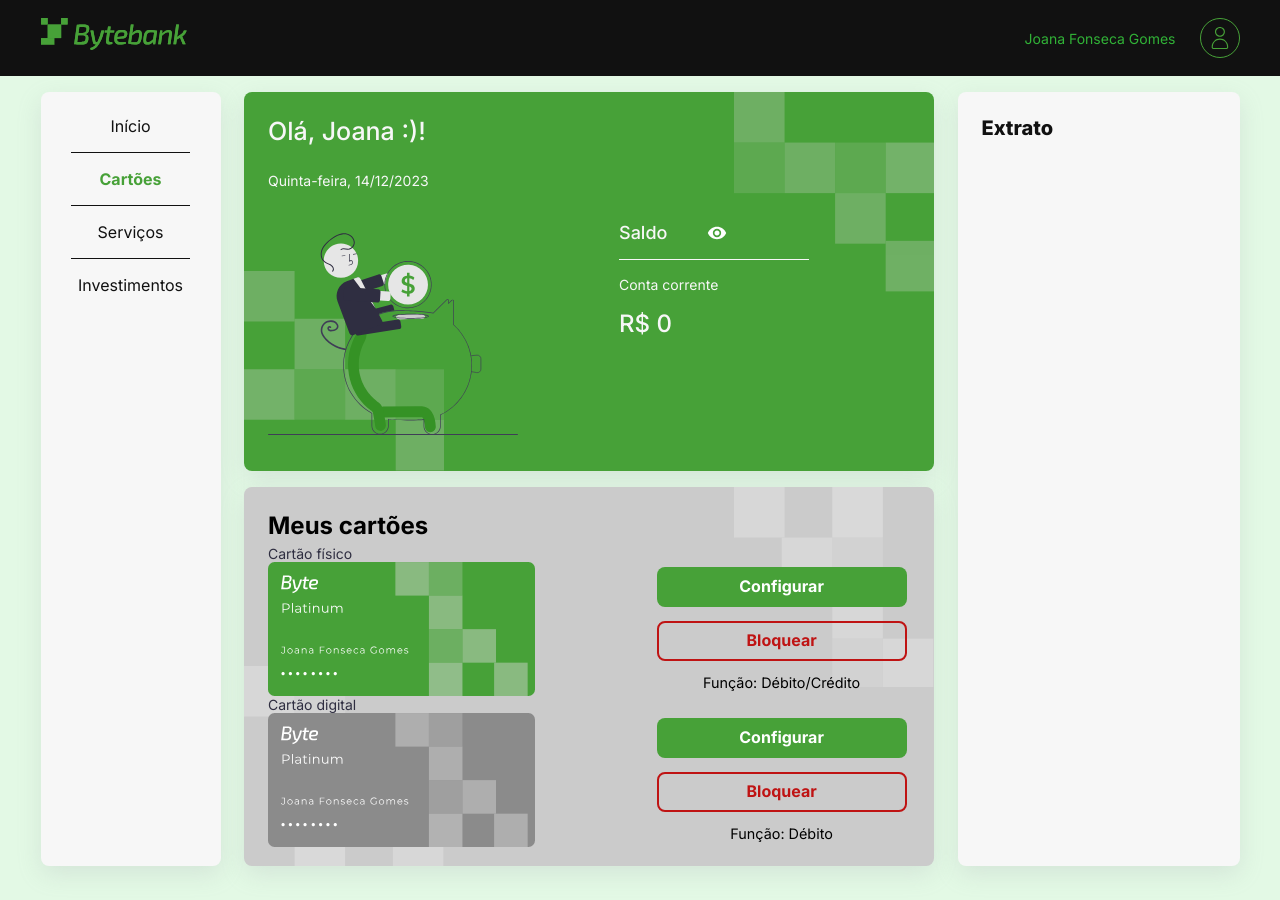
Scenario: Componente <App/> › Deve navegar até a página correspondente ao link clicado
Click the link "Investimentos": click(130, 285) x1=78 y1=275 x2=183 y2=295
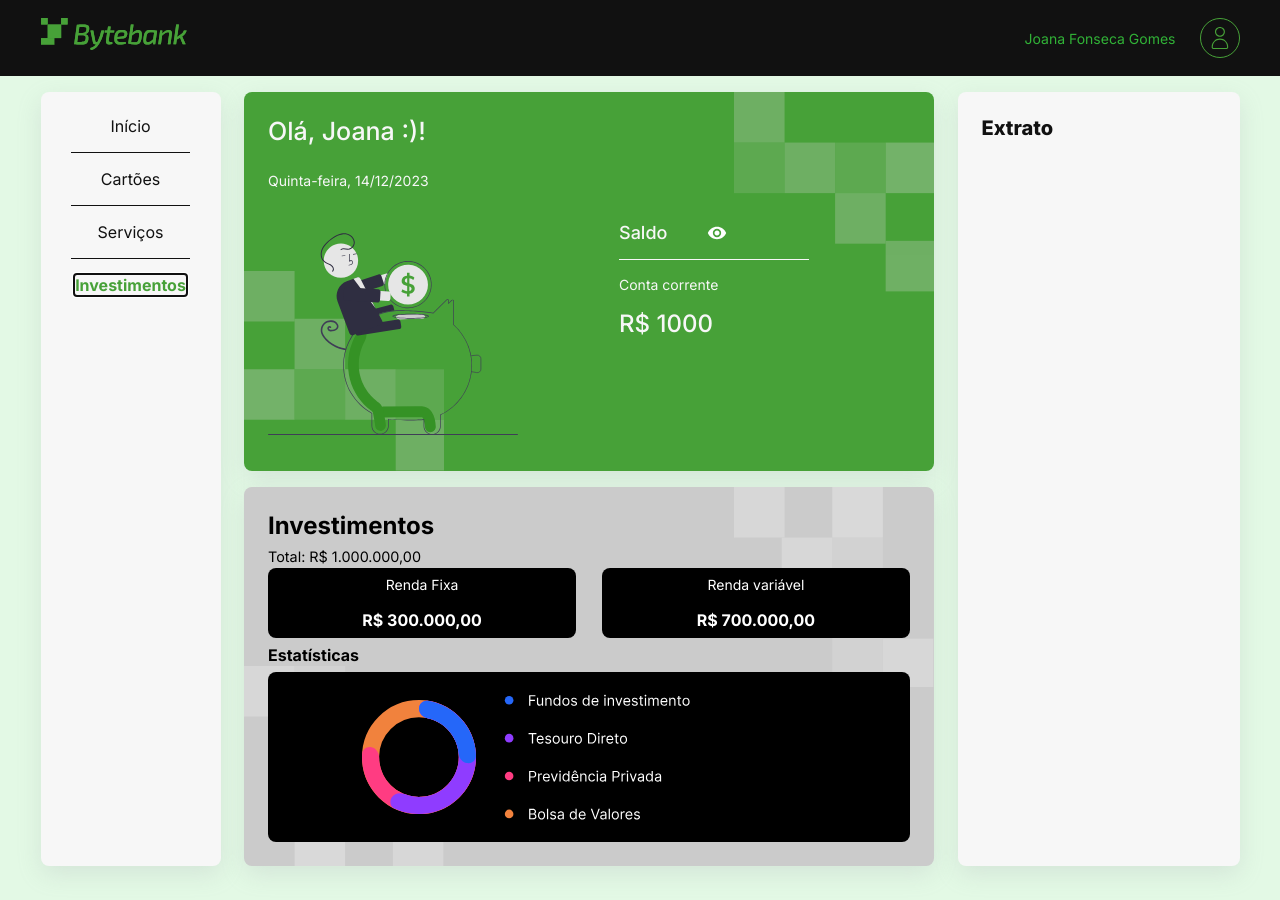
Result: the text "Renda Fixa" is shown at x1=386 y1=576 x2=458 y2=593
